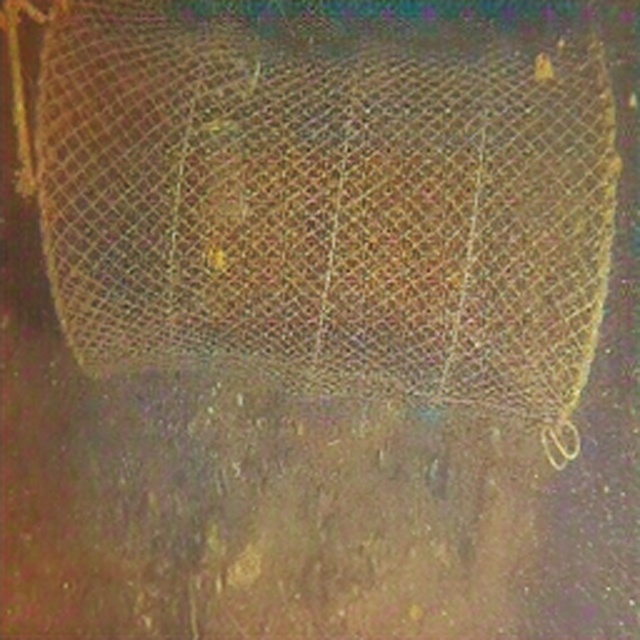mine: (28, 1, 616, 434)
